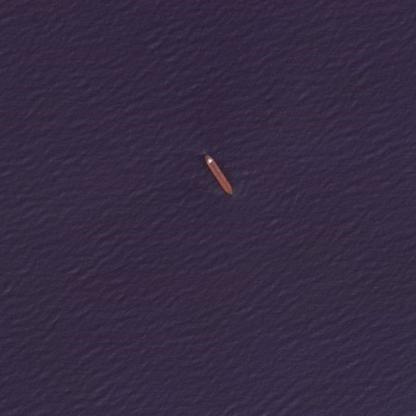ship: (195, 148, 240, 199)
